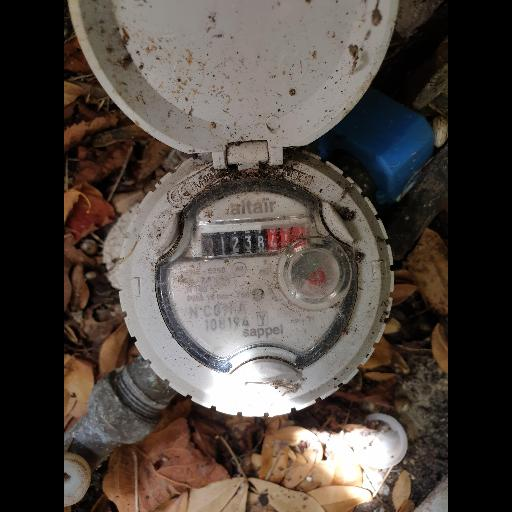0: (201, 233, 218, 257)
1: (278, 227, 294, 252), (216, 232, 230, 256), (292, 226, 309, 242)
2: (228, 231, 242, 256)
3: (241, 230, 255, 254)
4: (266, 228, 281, 253)
8: (253, 229, 268, 254)
border_water_meter_number: (194, 218, 313, 262)
